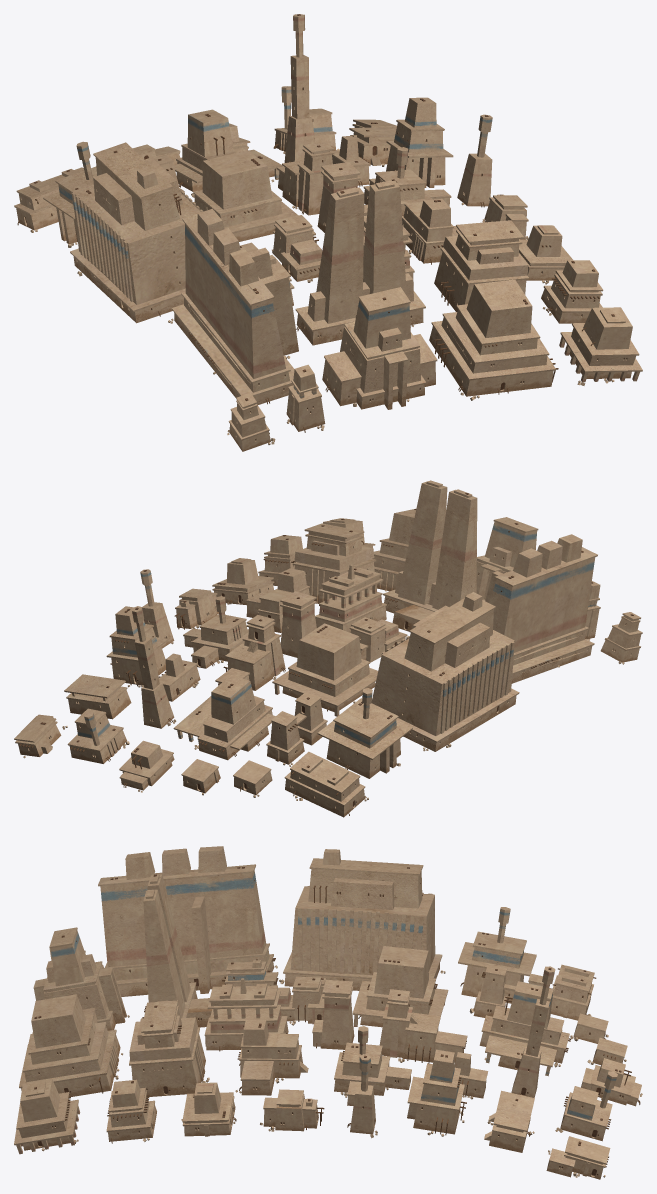
The picture shows the model from 3 angles, top to bottom: view 1: azimuth 30°, elevation 25°; view 2: azimuth 150°, elevation 25°; view 3: azimuth 270°, elevation 25°; orthographic projection. The views are drawn at different scales.
Visible parts, largest first — view 1: Object_12, Object_13, Object_8, Object_6, Object_11, Object_14, Object_7, Object_4, Object_5, Object_9, Object_10, Object_3 (+1 smaller); view 2: Object_8, Object_13, Object_12, Object_6, Object_7, Object_10, Object_5, Object_9, Object_3, Object_4, Object_2, Object_14 (+1 smaller); view 3: Object_12, Object_13, Object_7, Object_6, Object_9, Object_8, Object_4, Object_5, Object_3, Object_11, Object_10, Object_14 (+1 smaller).
Part boxes in pixels (<box>): Object_12: <box>168,208,298,404</box>; Object_13: <box>70,142,203,323</box>; Object_8: <box>43,141,425,345</box>; Object_6: <box>193,142,603,323</box>; Object_11: <box>429,279,558,400</box>; Object_14: <box>322,287,437,409</box>; Object_7: <box>284,14,453,232</box>; Object_4: <box>286,127,642,431</box>; Object_5: <box>227,86,458,451</box>; Object_9: <box>363,204,529,311</box>; Object_10: <box>14,109,282,232</box>; Object_3: <box>240,114,572,305</box>; Object_8: <box>266,480,477,778</box>; Object_13: <box>371,592,519,751</box>; Object_12: <box>485,534,597,683</box>; Object_6: <box>215,535,378,716</box>; Object_7: <box>106,591,316,728</box>; Object_10: <box>173,675,368,817</box>; Object_5: <box>67,568,642,763</box>; Object_9: <box>292,523,386,632</box>; Object_3: <box>14,558,274,797</box>; Object_4: <box>64,518,600,719</box>; Object_2: <box>105,540,364,815</box>; Object_14: <box>476,517,538,600</box>; Object_12: <box>98,846,277,996</box>; Object_13: <box>279,849,445,990</box>; Object_7: <box>312,966,555,1136</box>; Object_6: <box>106,946,467,1141</box>; Object_9: <box>129,978,288,1096</box>; Object_8: <box>142,874,543,1027</box>; Object_4: <box>14,948,534,1154</box>; Object_5: <box>84,950,617,1141</box>; Object_3: <box>181,960,610,1179</box>; Object_11: <box>19,994,122,1096</box>; Object_10: <box>479,964,596,1076</box>; Object_14: <box>33,927,129,1030</box>.
Size of the model in its own units: 115 by 48.84 by 154.
Materials: 1 (1 with a texture image).
